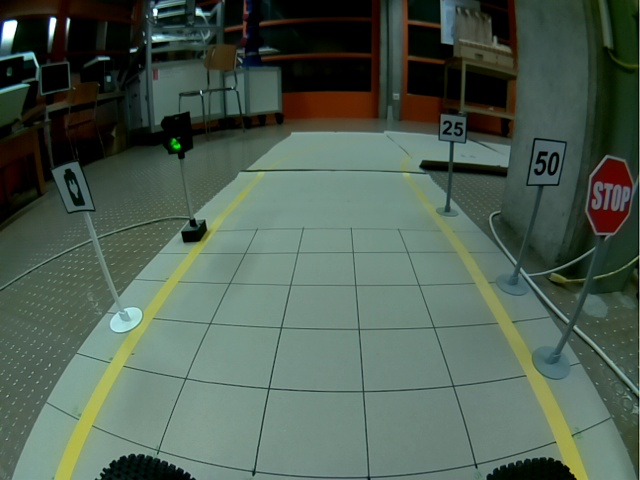battery: (49, 160, 95, 214)
speed25: (439, 113, 467, 144)
speed50: (527, 137, 567, 187)
stop: (584, 155, 634, 236)
trafficLightGreen: (160, 111, 194, 155)
